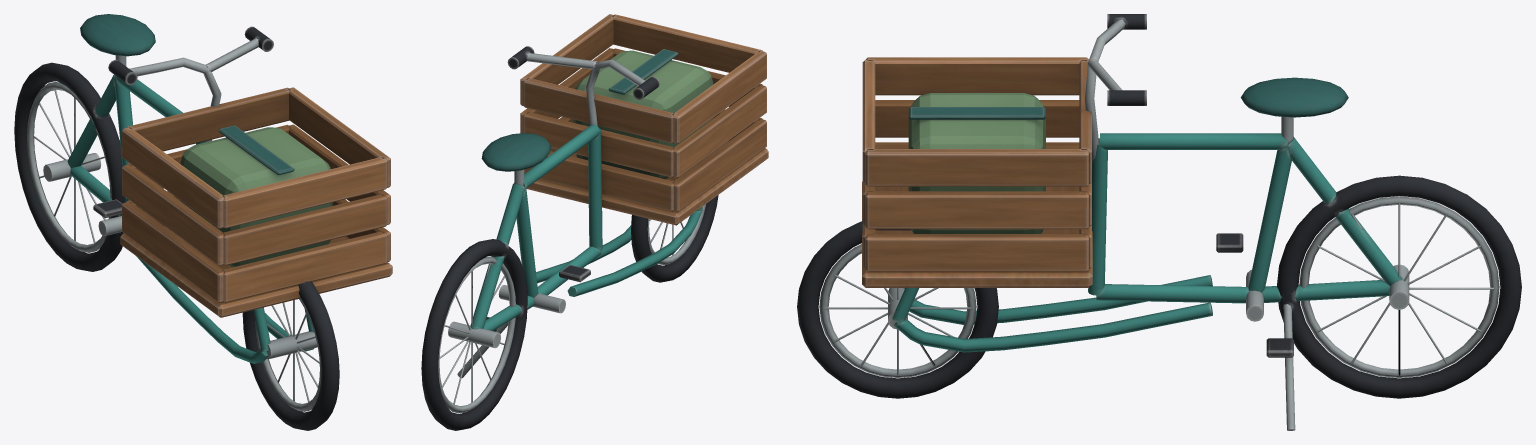
File: prop_cargo_bike.glb
3 views of the same model, side by side, from view 1: azimuth 30°, elevation 25°; view 2: azimuth 150°, elevation 25°; view 3: azimuth 270°, elevation 25° (orthographic). The views are drawn at different scales.
Visible parts, largest first — view 1: prop_cargo_bike_mesh; view 2: prop_cargo_bike_mesh; view 3: prop_cargo_bike_mesh.
Boxes of the visible parts, x1,y1,x2,y2 form: prop_cargo_bike_mesh: (14, 14, 392, 430); prop_cargo_bike_mesh: (421, 14, 768, 430); prop_cargo_bike_mesh: (797, 14, 1521, 430).
Size of the model in its own units: 0.64 by 1.07 by 2.01.
1 material, 1 textured.
